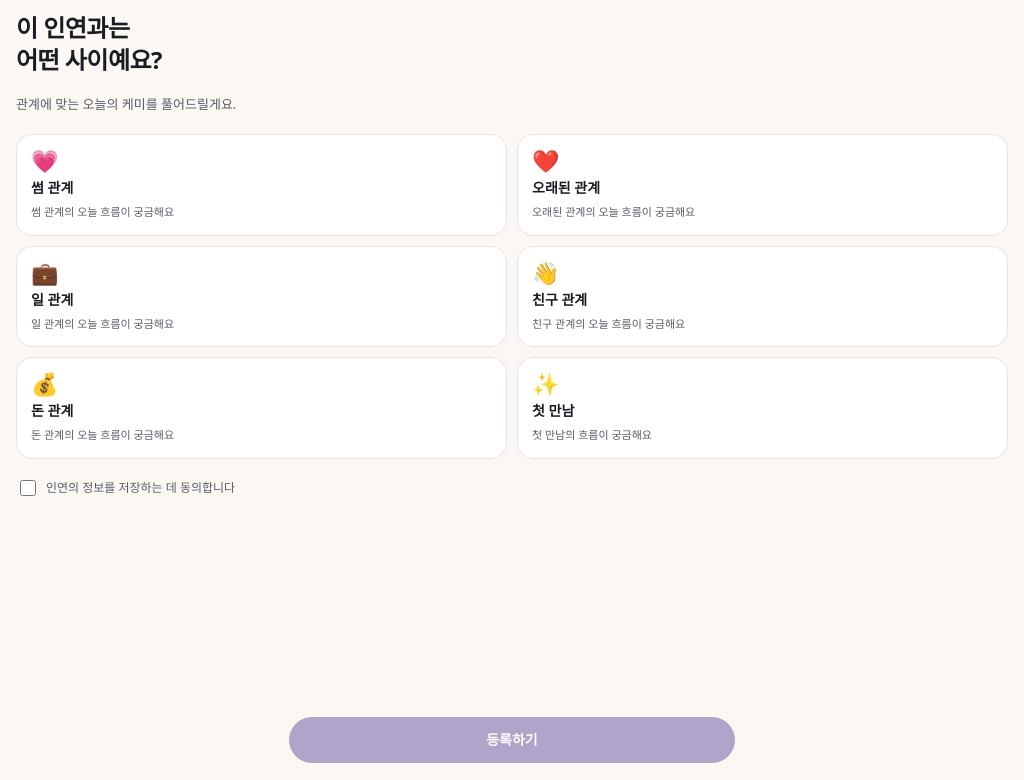
it: RelationsModePage (Step 3) › shows generic error on non-ok response
Click the text "썸 관계": (52, 188) [31,177,73,198]
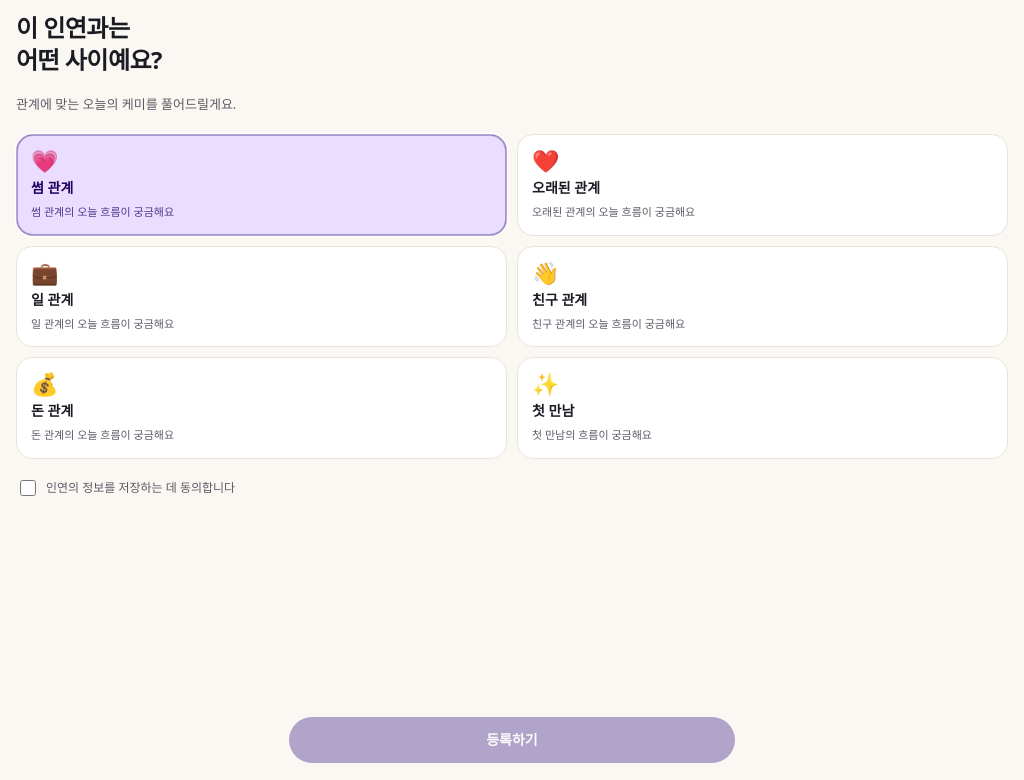
Click the checkbox: (28, 488) [20,480,36,496]
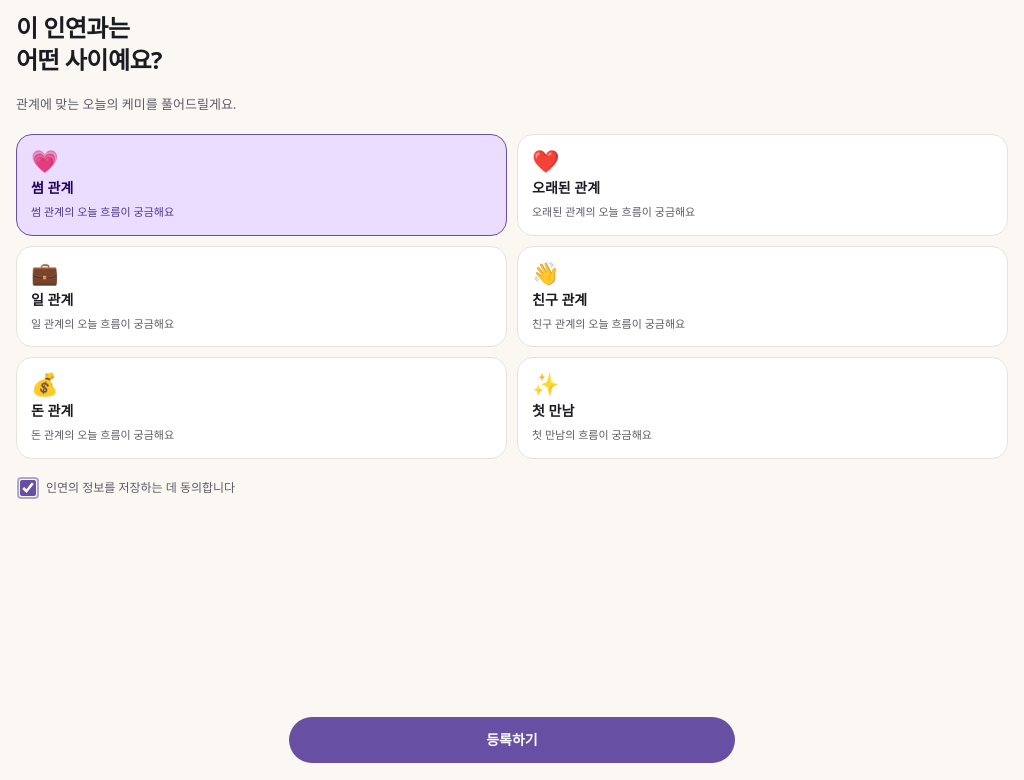
Now the button "등록하기" is enabled
Click the button "등록하기": (512, 740) [288,716,736,764]
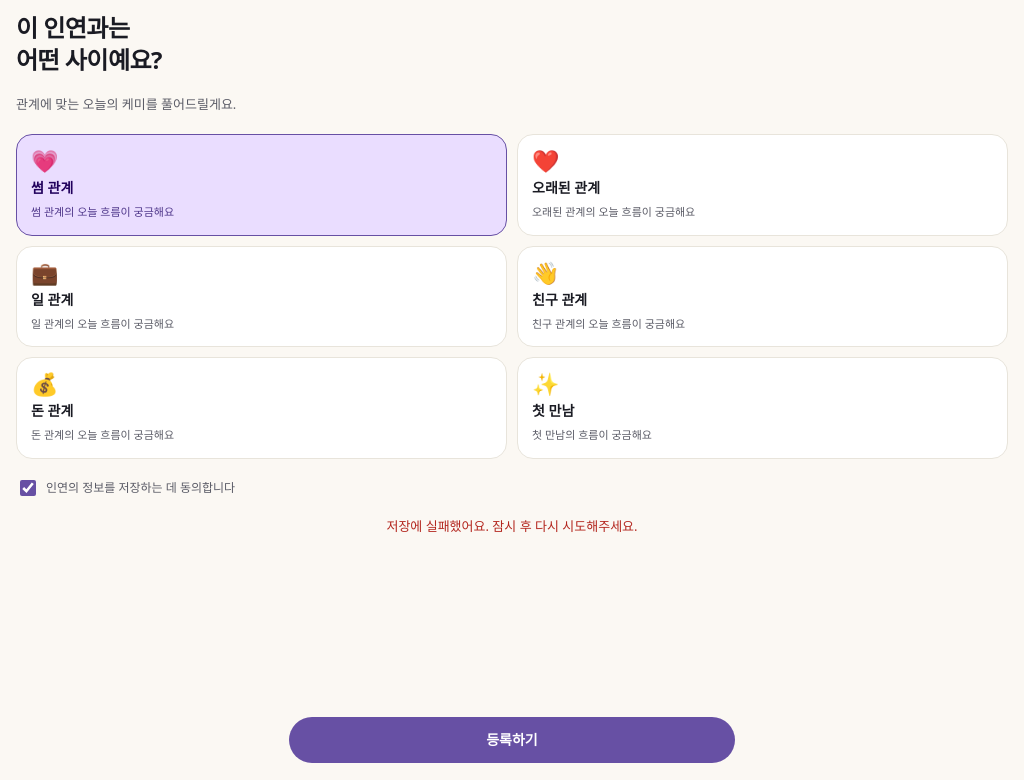
Now the text "저장에 실패했어요. 잠시 후 다시 시도해주세요." is shown, box [386,517,638,535]
